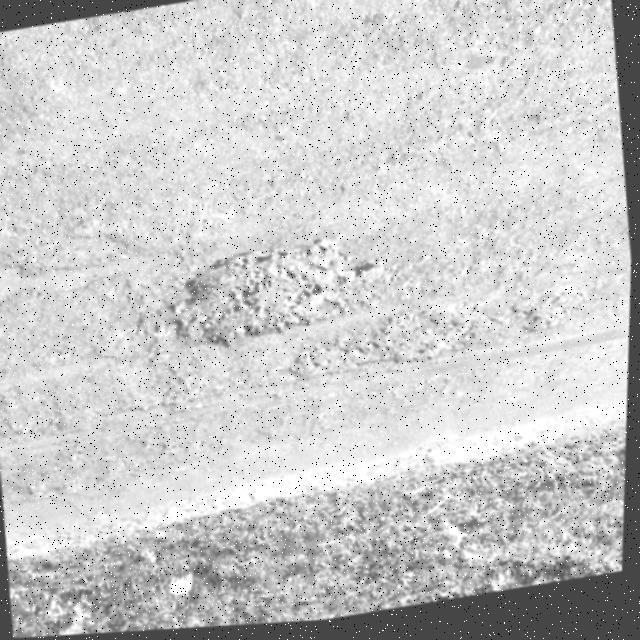pothole: (283, 280, 606, 396), (134, 229, 388, 361)
